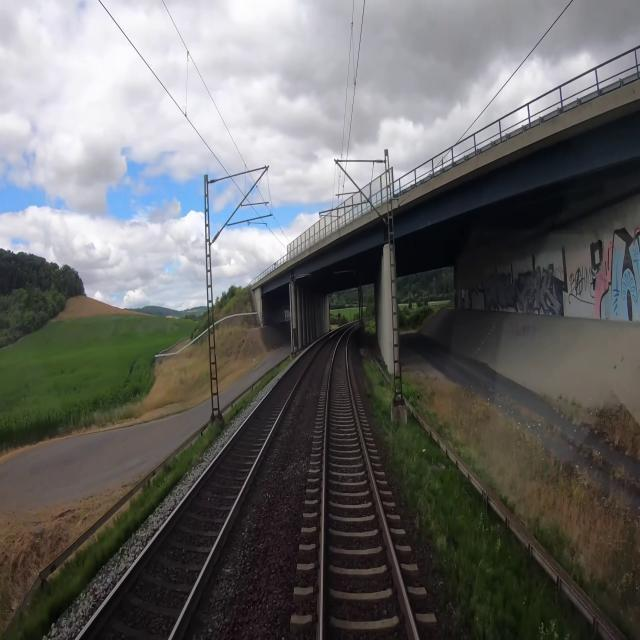Plant: (318, 317, 420, 639), (417, 480, 504, 639), (383, 412, 424, 511), (361, 355, 392, 414), (372, 399, 384, 419), (363, 379, 372, 396), (366, 326, 376, 337), (368, 320, 375, 326)
